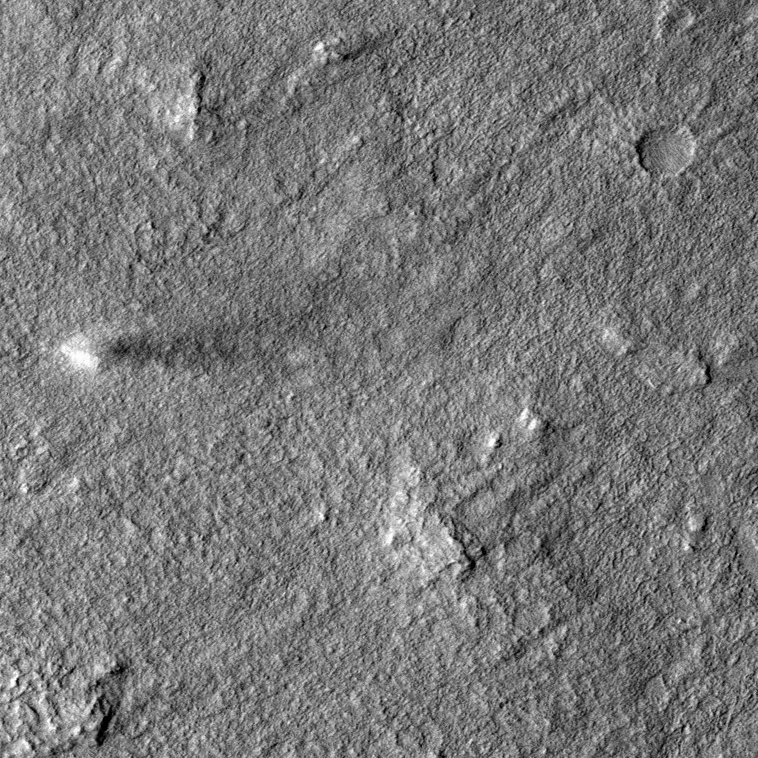dust_devil: (55, 313, 291, 378)
